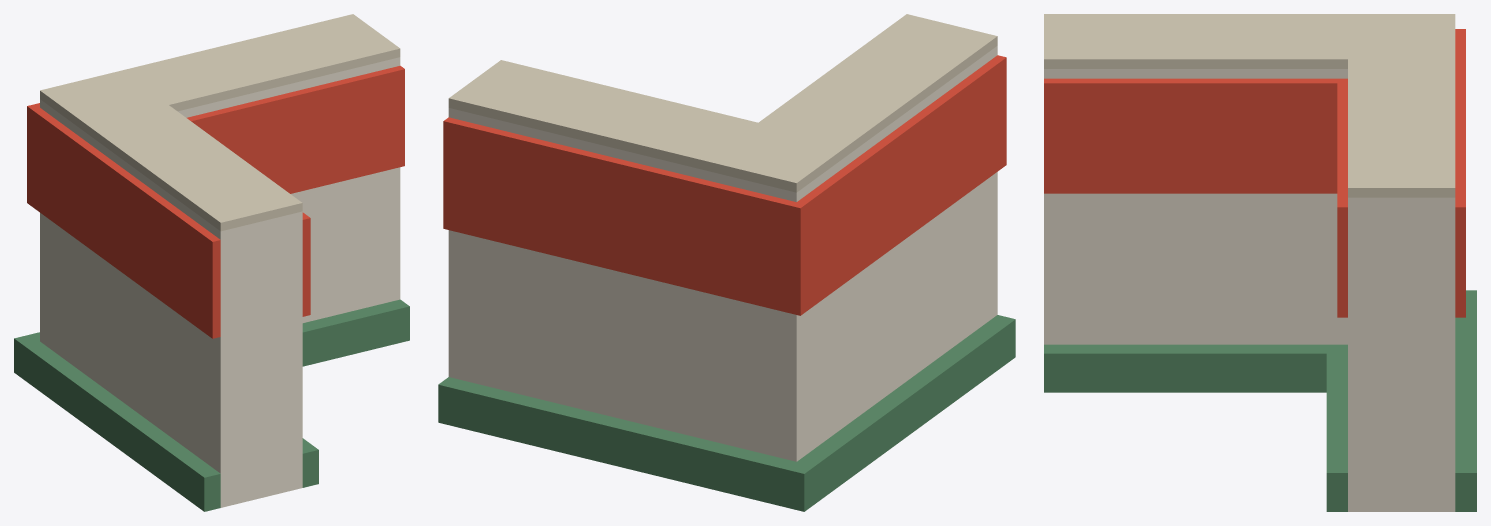
Rendered from partition-low-elbow.glb.
The picture shows the model from 3 angles, left to right: view 1: azimuth 30°, elevation 25°; view 2: azimuth 150°, elevation 25°; view 3: azimuth 270°, elevation 25°; orthographic projection. The views are drawn at different scales.
Parts seen in each view (by area): view 1: partition-low-elbow; view 2: partition-low-elbow; view 3: partition-low-elbow.
Part boxes in pixels (x1=…): partition-low-elbow: x1=14, y1=14, x2=409, y2=511; partition-low-elbow: x1=438, y1=14, x2=1015, y2=511; partition-low-elbow: x1=1044, y1=14, x2=1476, y2=511.
Size of the model in its own units: 0.605 by 0.5 by 0.605.
Materials: 1 (1 with a texture image).
